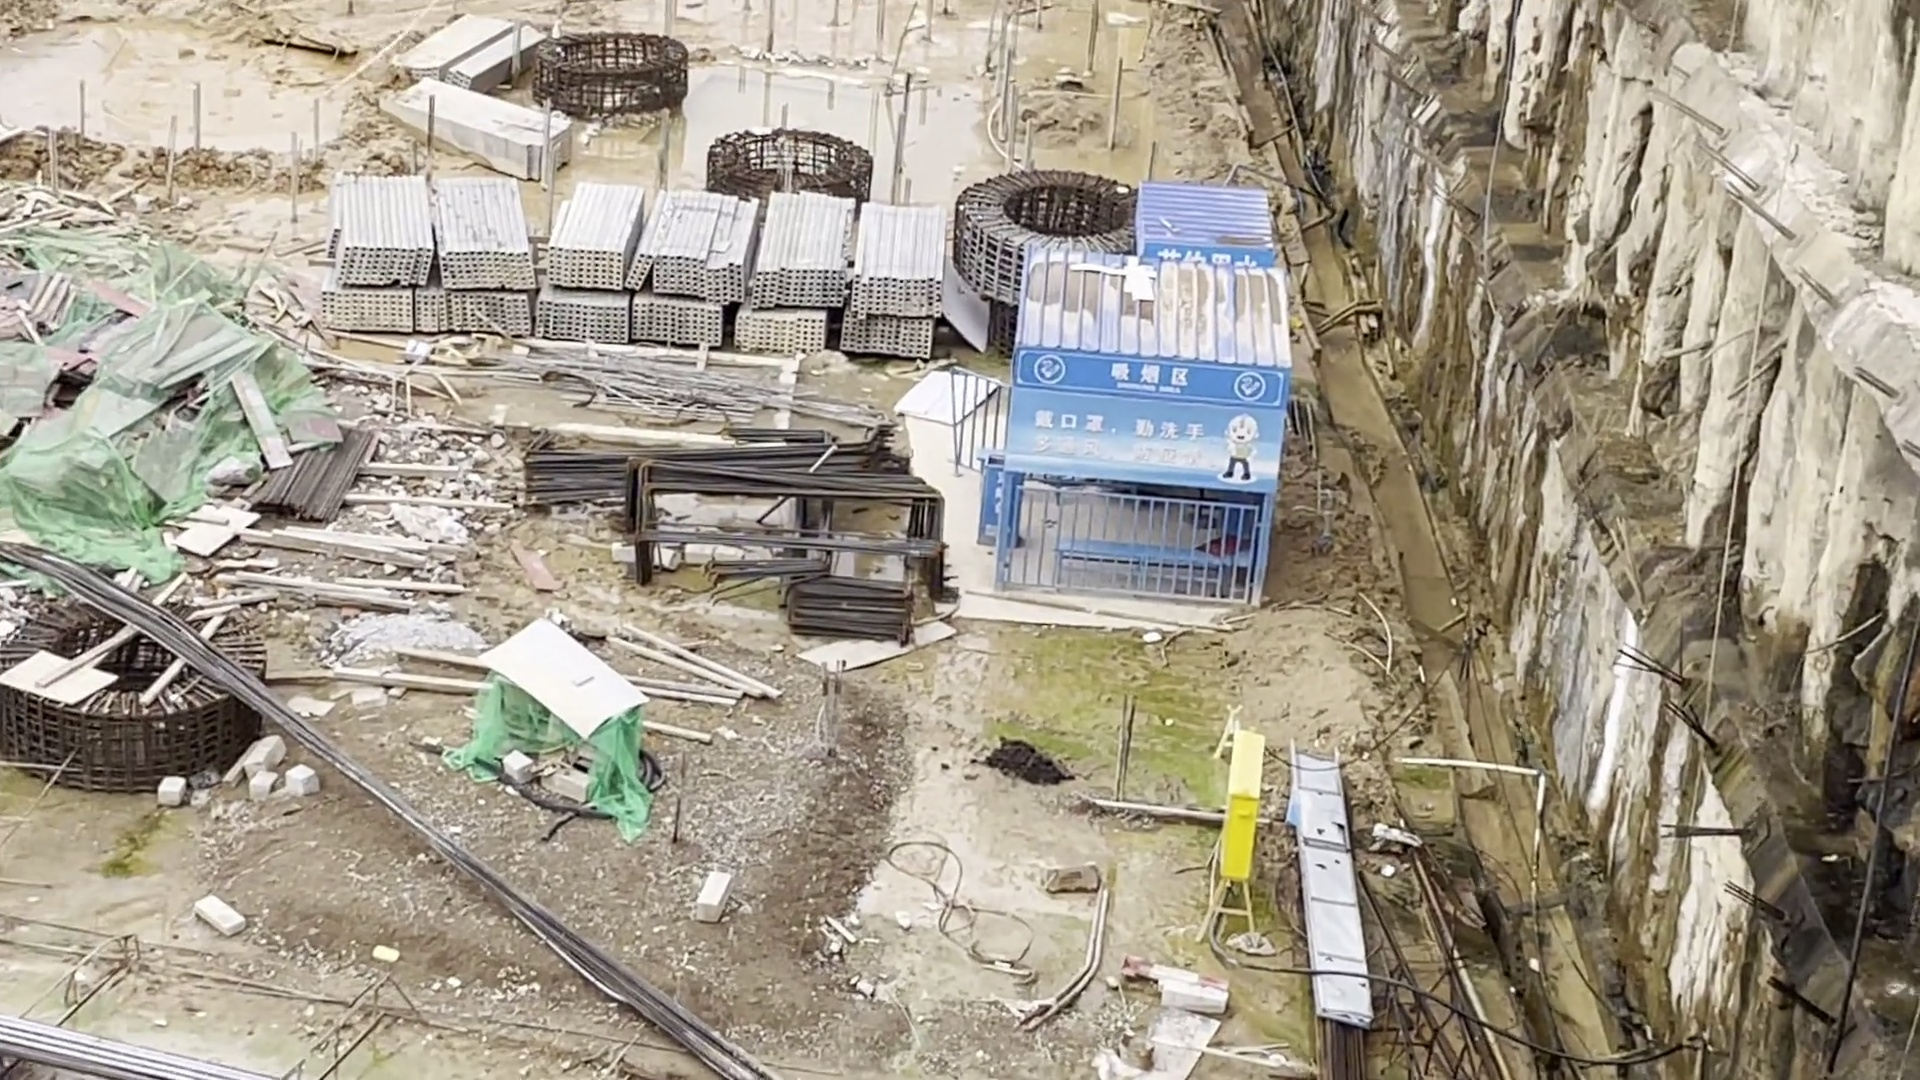ebox: (1204, 731, 1276, 945)
rebar: (15, 1025, 282, 1080)
scaffold: (328, 160, 955, 369), (384, 26, 584, 156)
slogan: (1021, 349, 1270, 495)
